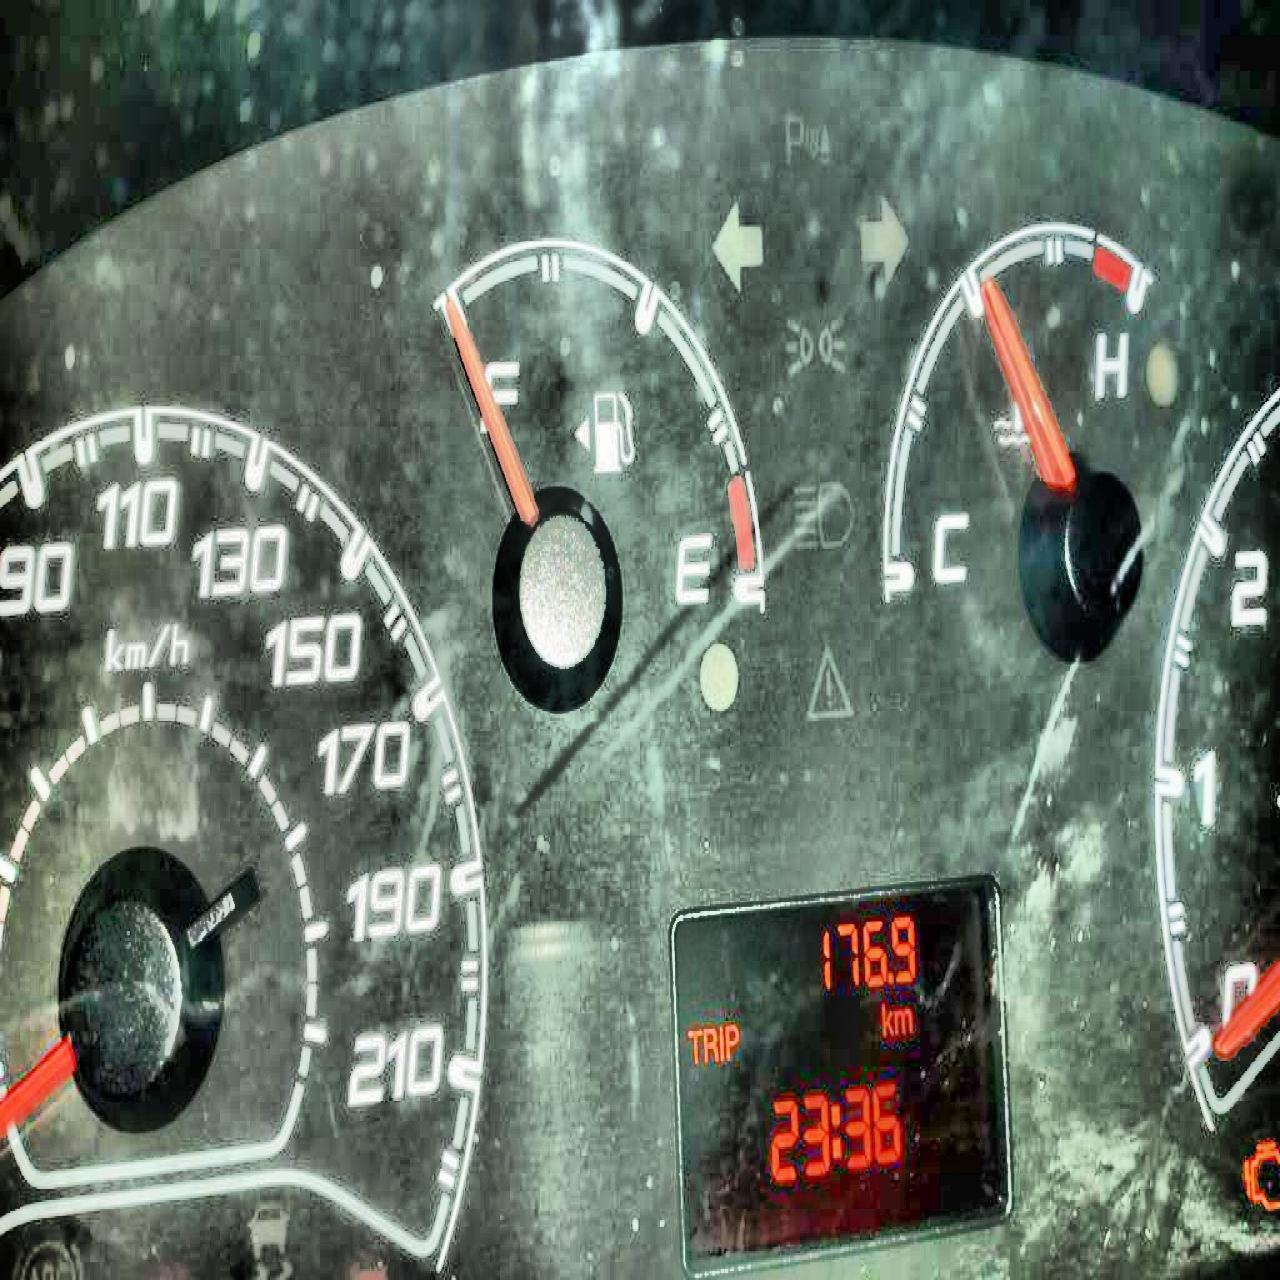-: (886, 968, 892, 982)
1: (817, 925, 832, 992)
2: (768, 1096, 797, 1183)
3: (801, 1091, 830, 1176), (843, 1082, 871, 1169)
6: (872, 1077, 903, 1164), (862, 915, 887, 987)
7: (835, 918, 860, 987)
9: (892, 911, 917, 982)
X: (829, 1099, 842, 1160), (892, 1002, 913, 1036), (683, 1024, 701, 1064), (701, 1022, 717, 1062), (878, 998, 892, 1035), (723, 1022, 737, 1057), (716, 1024, 723, 1060)
odometer: (665, 863, 1015, 1275)
